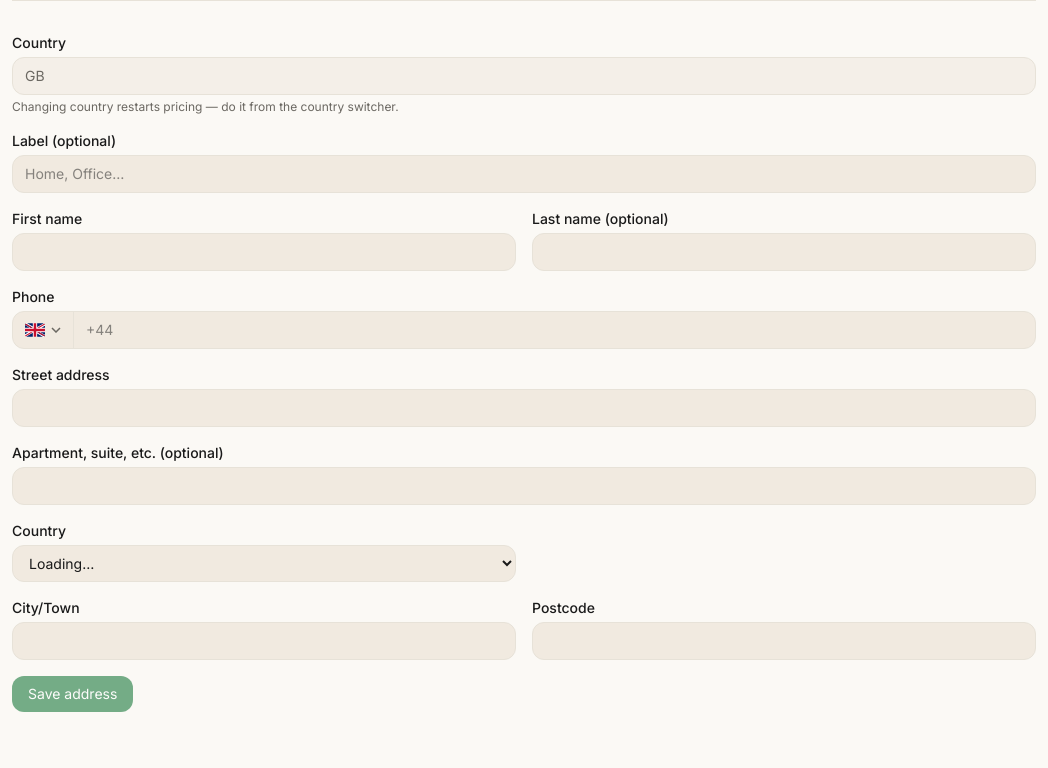
Test: AddressStep › shows a field error on a 400 create response and does not complete the step
The image size is (1048, 768).
Expected: the field labelled "Street address" is shown, x1=12 y1=389 x2=1036 y2=427
Type "Ada" into the field labelled "First name".
click(264, 252); type("Ada")  # box x1=12 y1=233 x2=516 y2=271
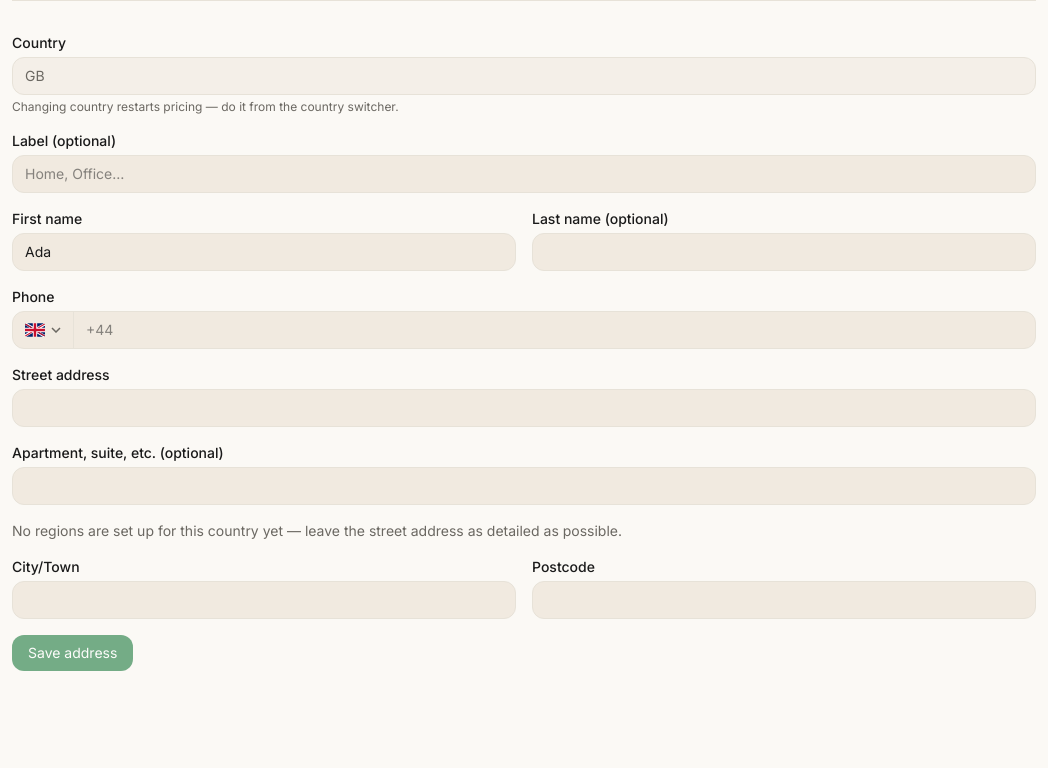
Type "07000000000" into the field labelled "Phone".
click(554, 330); type("07000000000")  # box x1=74 y1=312 x2=1035 y2=348
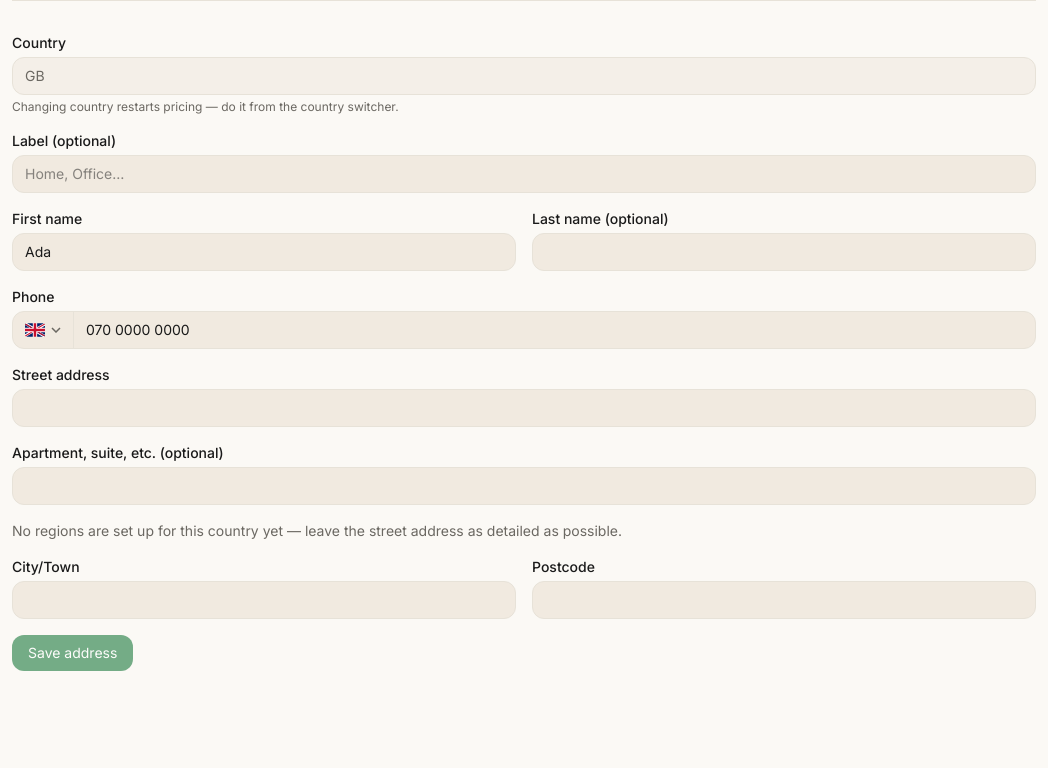
Type "10 Downing St" into the field labelled "Street address".
click(524, 408); type("10 Downing St")  # box x1=12 y1=389 x2=1036 y2=427
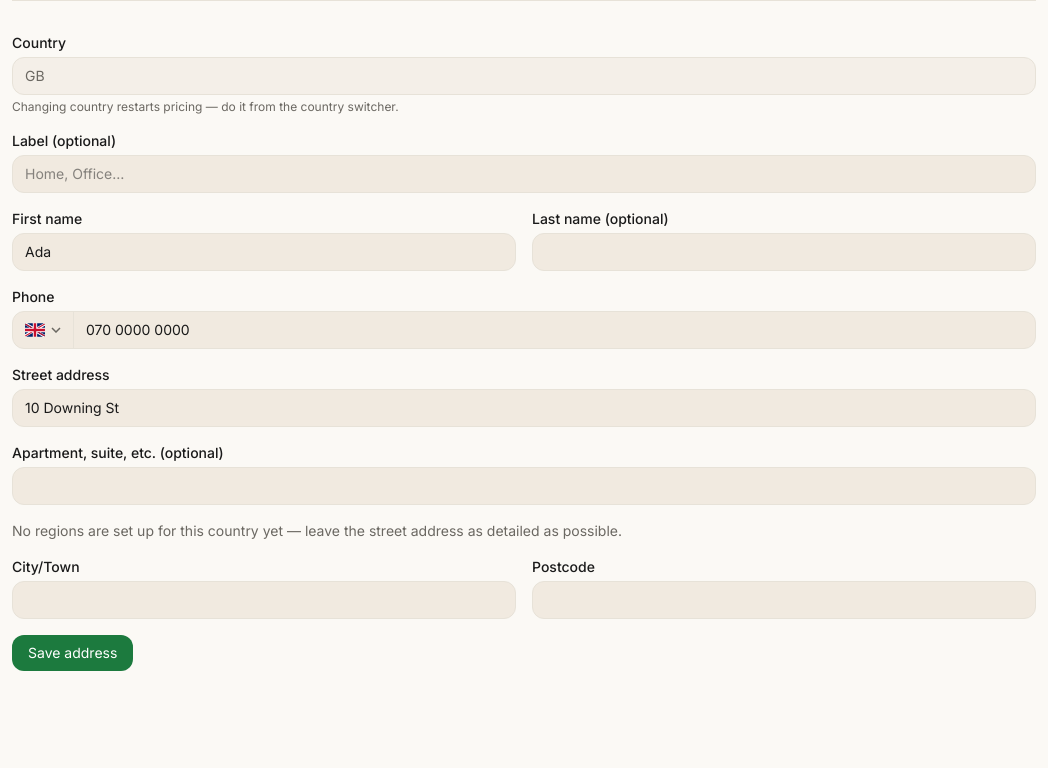
Type "London" into the field labelled "City/Town".
click(264, 600); type("London")  # box x1=12 y1=581 x2=516 y2=619
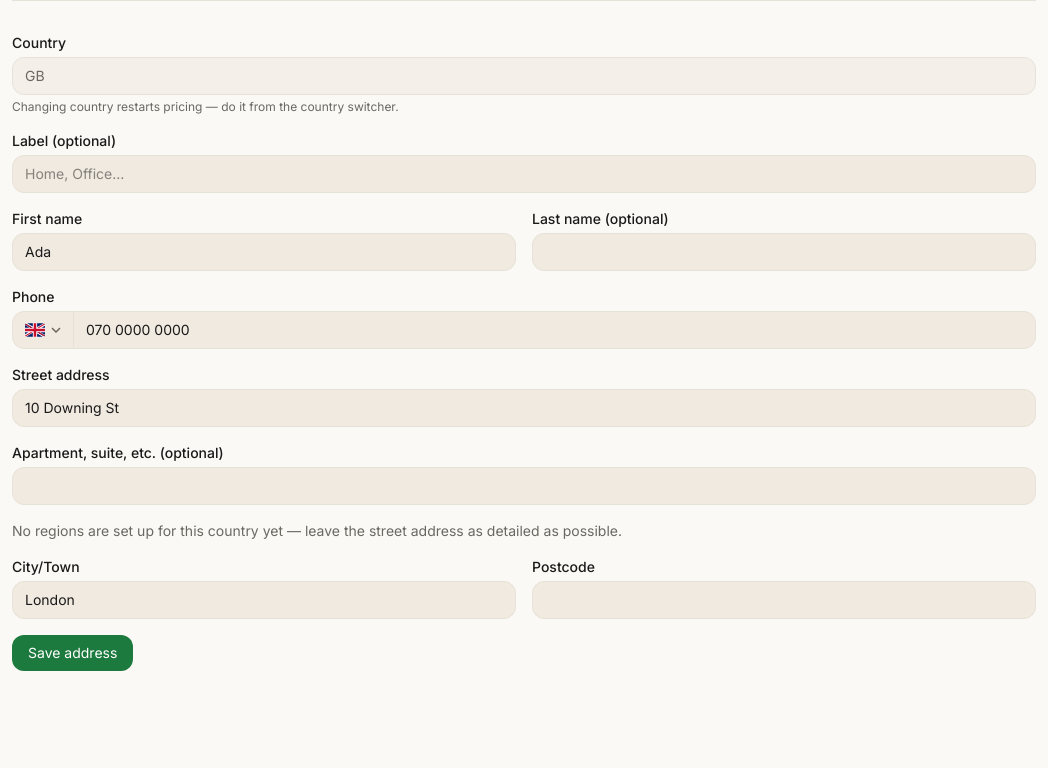
Click the button "Save address".
click(73, 653)  # box x1=12 y1=635 x2=133 y2=671
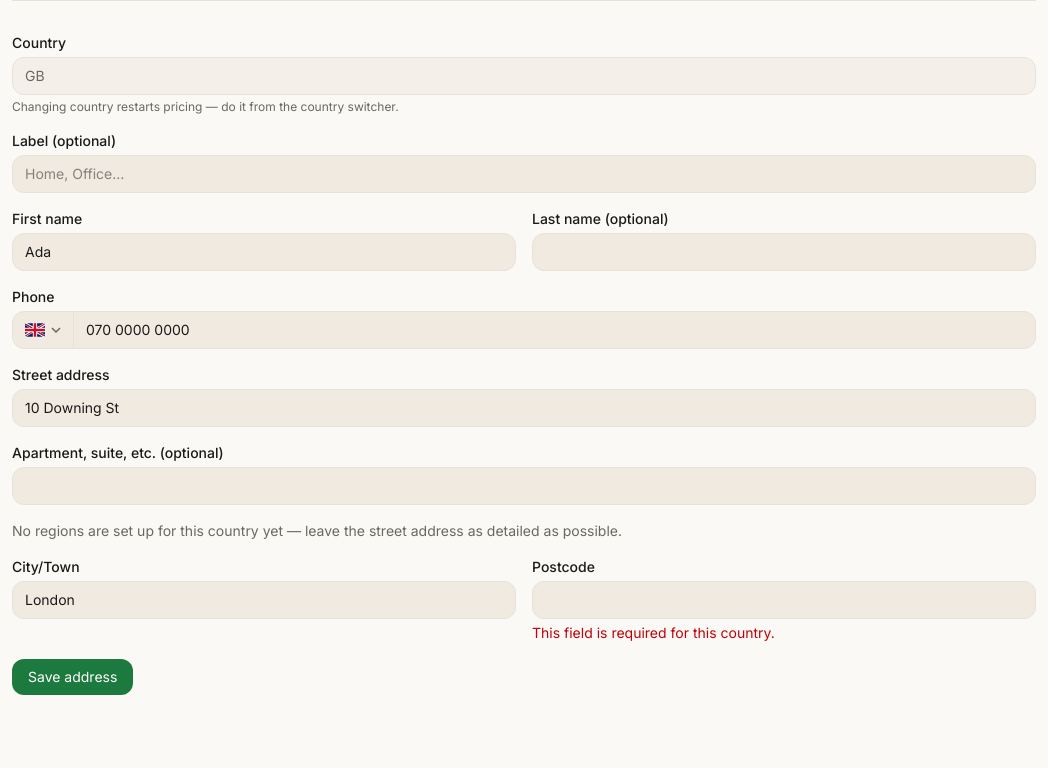
Expected: the text "This field is required for this country." is shown, x1=532 y1=624 x2=775 y2=641
